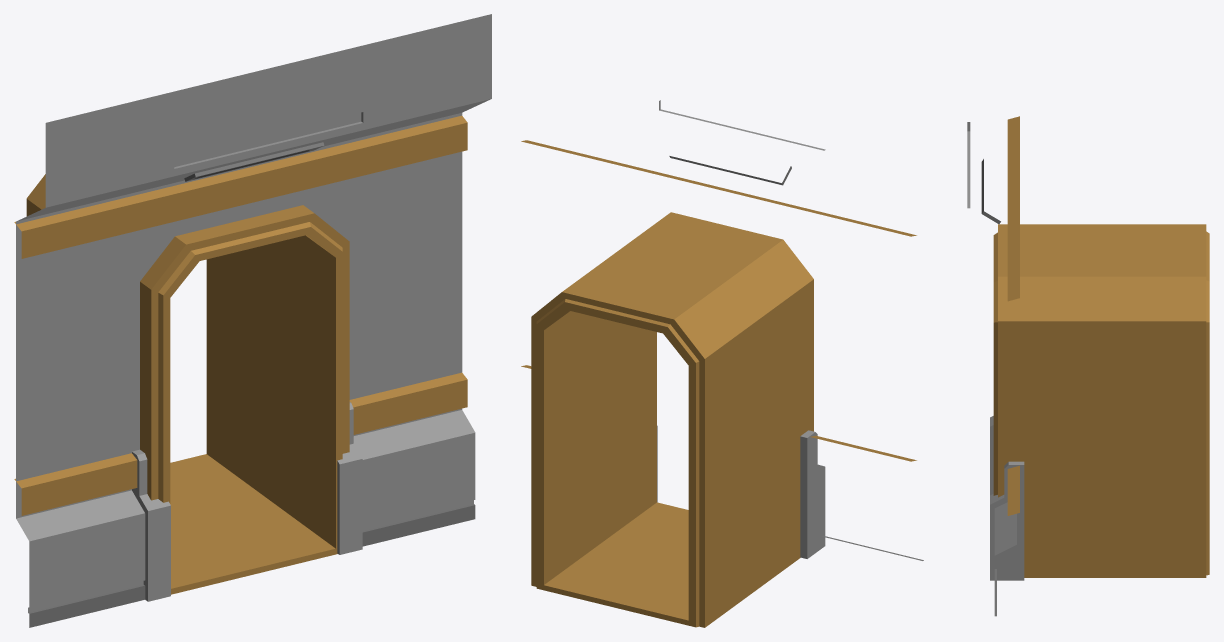
Rendered from DoorSingleLong_Wall_SideA.glb.
The picture shows the model from 3 angles, left to right: view 1: azimuth 30°, elevation 25°; view 2: azimuth 150°, elevation 25°; view 3: azimuth 270°, elevation 25°; orthographic projection. The views are drawn at different scales.
Parts seen in each view (by area): view 1: DoorSingleLong_Wall_SideA_Plane.313; view 2: DoorSingleLong_Wall_SideA_Plane.313; view 3: DoorSingleLong_Wall_SideA_Plane.313.
Part boxes in pixels (left/top/right/bottom): DoorSingleLong_Wall_SideA_Plane.313: left=14, top=14, right=491, bottom=627; DoorSingleLong_Wall_SideA_Plane.313: left=521, top=100, right=923, bottom=627; DoorSingleLong_Wall_SideA_Plane.313: left=967, top=116, right=1209, bottom=616.
Bounding box in the file's own units: 4 × 4.44 × 2.25.
